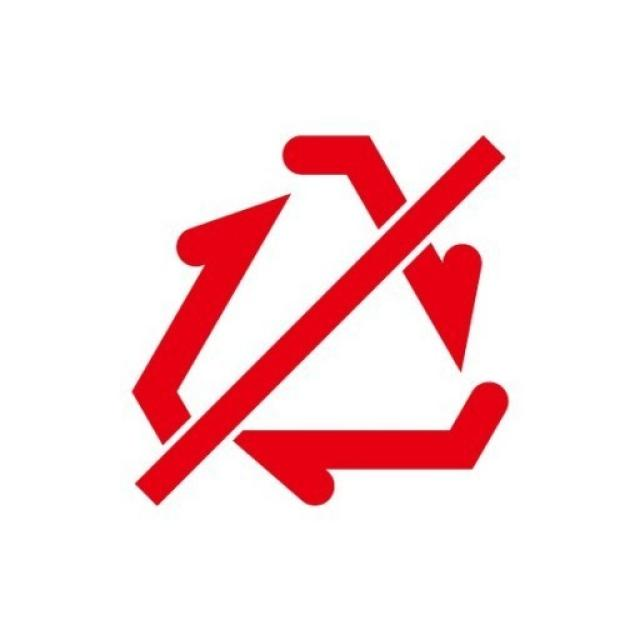NoRecycle: (104, 98, 534, 536)
